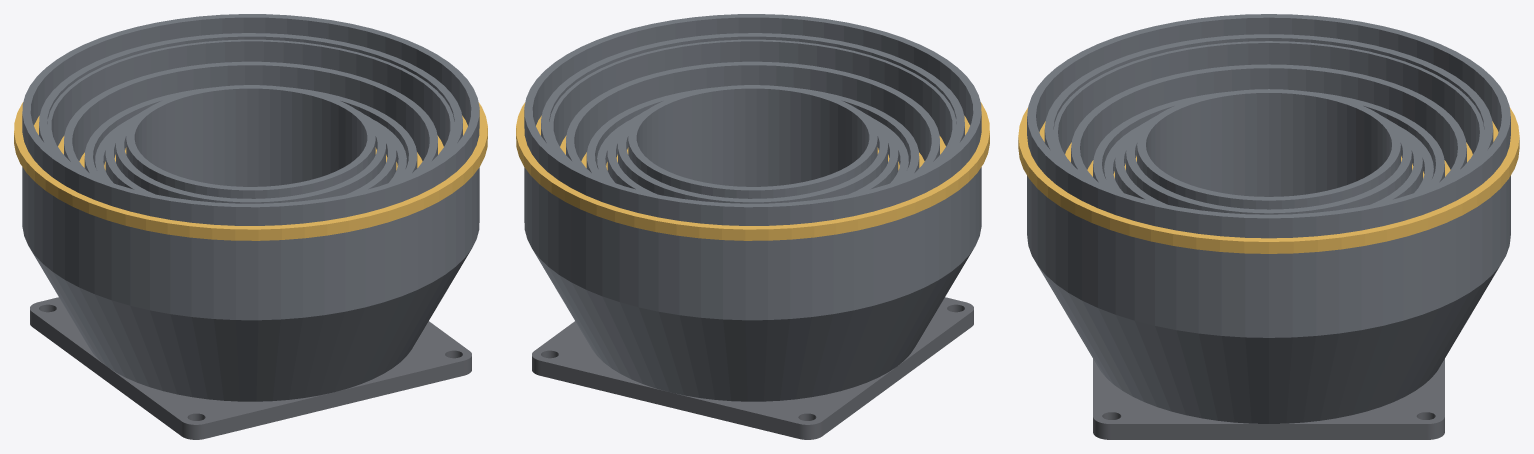
Rendered from fan-duct-adapter.glb.
3 views of the same model, side by side, from view 1: azimuth 30°, elevation 25°; view 2: azimuth 150°, elevation 25°; view 3: azimuth 270°, elevation 25° (orthographic). The views are drawn at different scales.
Parts seen in each view (by area): view 1: tube_d110, trans_d110, tube_d60, flange, tube_d90, tube_d100, lip_d110, tube_d102, tube_d65, tube_d80, tube_d70, tube_d75; view 2: tube_d110, trans_d110, tube_d60, flange, tube_d90, tube_d100, lip_d110, tube_d102, tube_d65, tube_d80, tube_d70, tube_d75; view 3: tube_d110, trans_d110, tube_d60, tube_d90, tube_d100, flange, lip_d110, tube_d102, tube_d65, tube_d80, tube_d70, tube_d75.
Boxes of the visible parts, <box> form: tube_d110: <box>22,14,479,320</box>; trans_d110: <box>30,249,470,401</box>; tube_d60: <box>126,85,375,198</box>; flange: <box>30,297,471,439</box>; tube_d90: <box>64,61,437,174</box>; tube_d100: <box>47,39,454,168</box>; lip_d110: <box>14,102,487,240</box>; tube_d102: <box>39,33,462,167</box>; tube_d65: <box>116,110,385,203</box>; tube_d80: <box>84,87,417,179</box>; tube_d70: <box>105,115,396,194</box>; tube_d75: <box>95,120,406,183</box>; tube_d110: <box>524,14,981,320</box>; trans_d110: <box>533,249,973,401</box>; tube_d60: <box>628,85,877,198</box>; flange: <box>532,297,973,439</box>; tube_d90: <box>566,61,939,174</box>; tube_d100: <box>549,39,956,168</box>; lip_d110: <box>516,102,989,240</box>; tube_d102: <box>541,33,964,167</box>; tube_d65: <box>618,110,887,203</box>; tube_d80: <box>586,87,919,179</box>; tube_d70: <box>607,115,898,194</box>; tube_d75: <box>597,120,908,183</box>; tube_d110: <box>1027,14,1510,337</box>; trans_d110: <box>1038,266,1499,423</box>; tube_d60: <box>1137,89,1400,209</box>; tube_d90: <box>1071,64,1466,183</box>; tube_d100: <box>1053,41,1484,178</box>; flange: <box>1093,359,1444,439</box>; lip_d110: <box>1018,107,1519,253</box>; tube_d102: <box>1044,34,1493,176</box>; tube_d65: <box>1126,116,1411,214</box>; tube_d80: <box>1093,91,1444,188</box>; tube_d70: <box>1115,121,1422,204</box>; tube_d75: <box>1104,127,1433,192</box>.
Size of the model in its own units: 0.114 by 0.0626 by 0.114.
